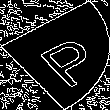P_NW: (15, 24, 95, 86)
